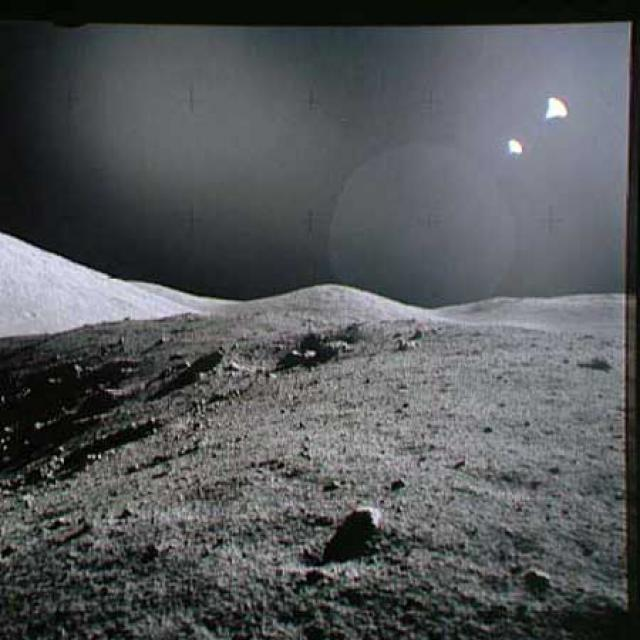crater: (227, 325, 341, 379)
rock: (332, 496, 382, 546), (510, 556, 547, 590)
